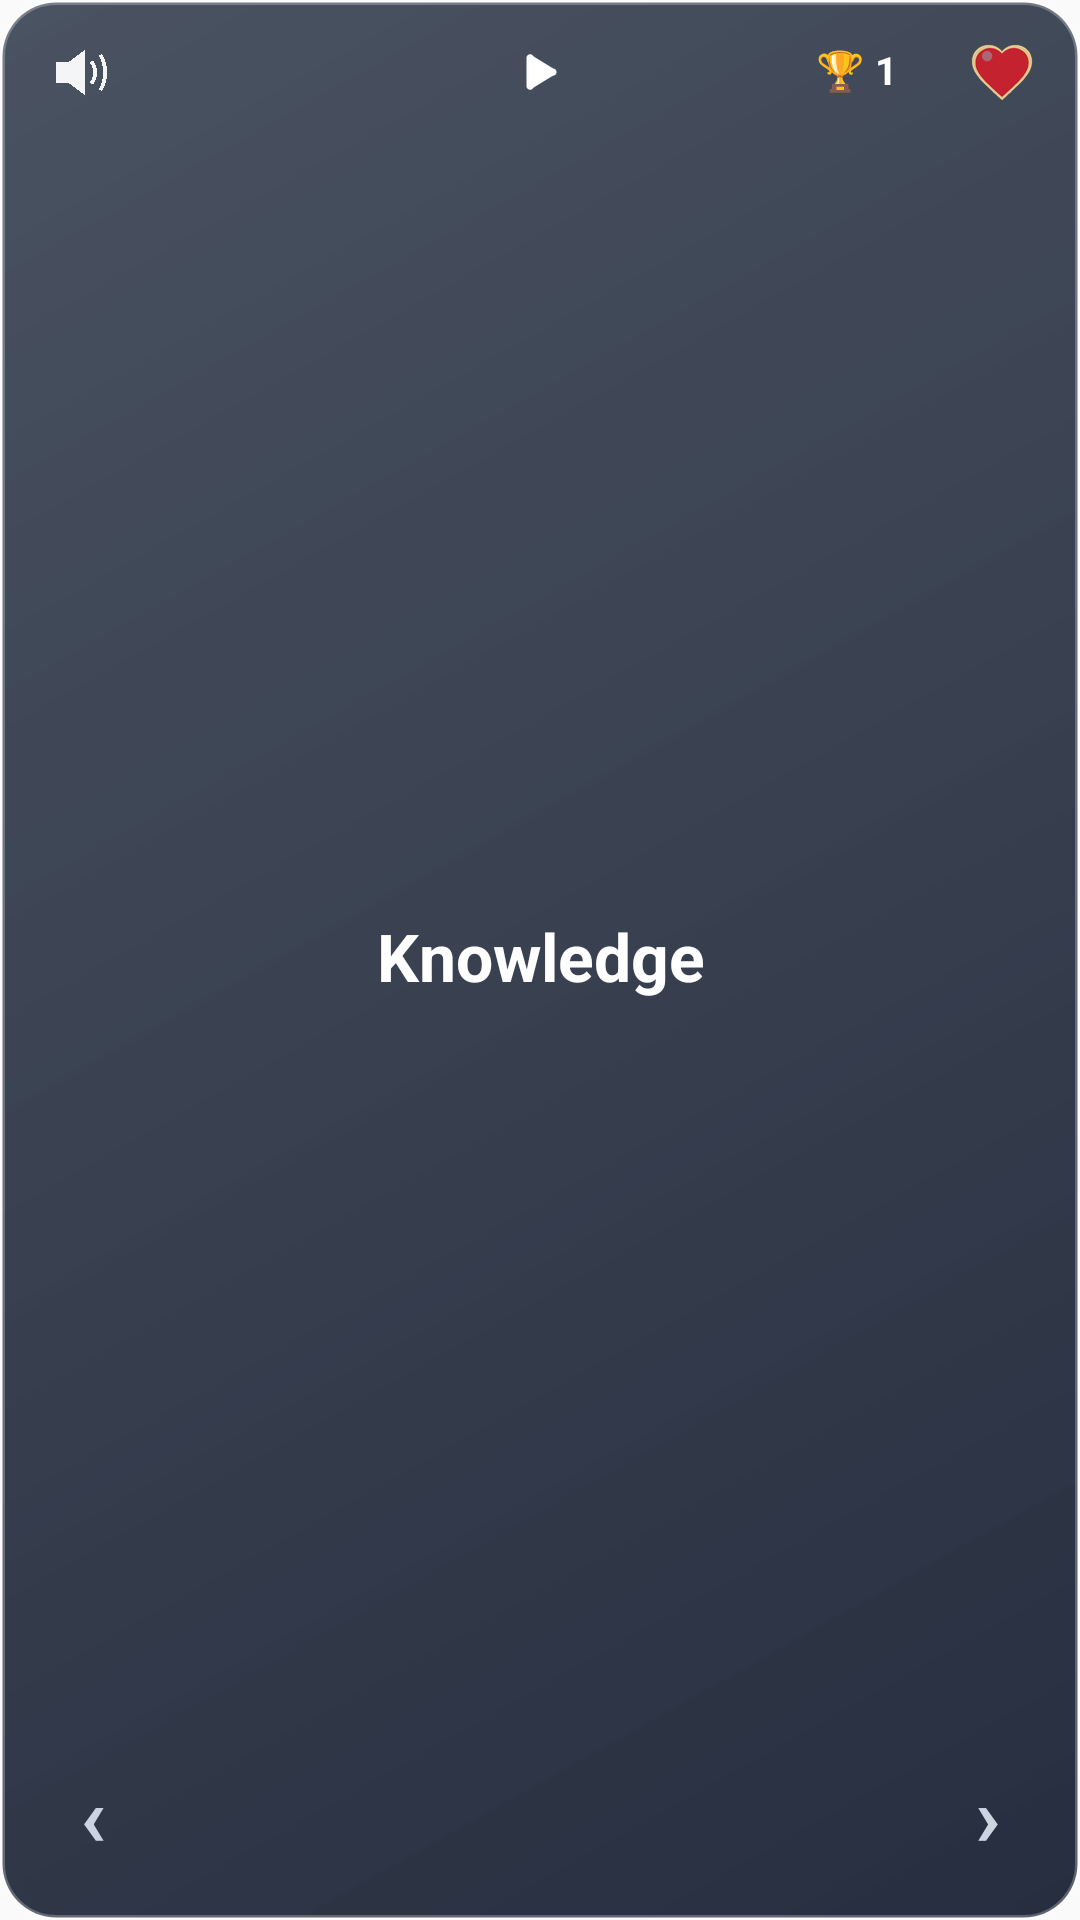

Point at icon controls on the screen. Image size 1080px×1920px, points as (x=x, y=y).
Избранное: (x=1002, y=72)
Непрерывное воспроизведение: (x=541, y=72)
Произнести слово: (x=78, y=72)
